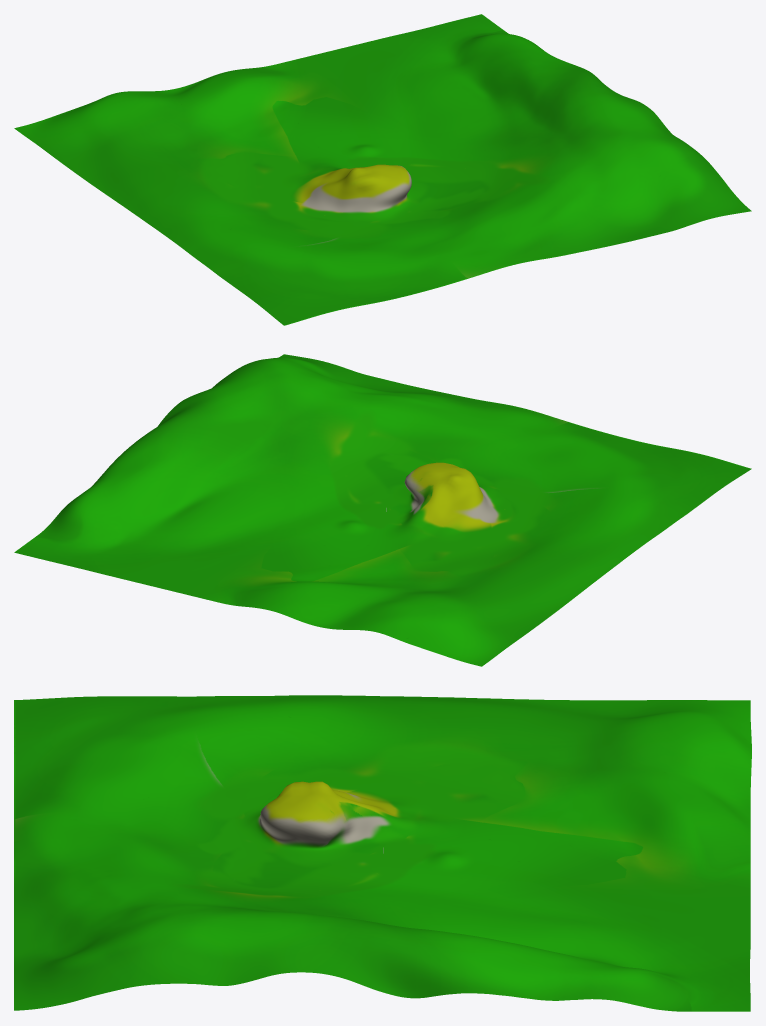
Rendered from terrain.glb.
3 views of the same model, one above another, from view 1: azimuth 30°, elevation 25°; view 2: azimuth 150°, elevation 25°; view 3: azimuth 270°, elevation 25° (orthographic). The views are drawn at different scales.
Visible parts, largest first — view 1: COL_FLOOR; view 2: COL_FLOOR; view 3: COL_FLOOR.
Boxes of the visible parts, x1,y1,x2,y2 form: COL_FLOOR: (14,14,751,325); COL_FLOOR: (14,354,751,666); COL_FLOOR: (14,695,751,1011).
Size of the model in its own units: 349 by 33.2 by 348.
Materials: 1 (1 with a texture image).
